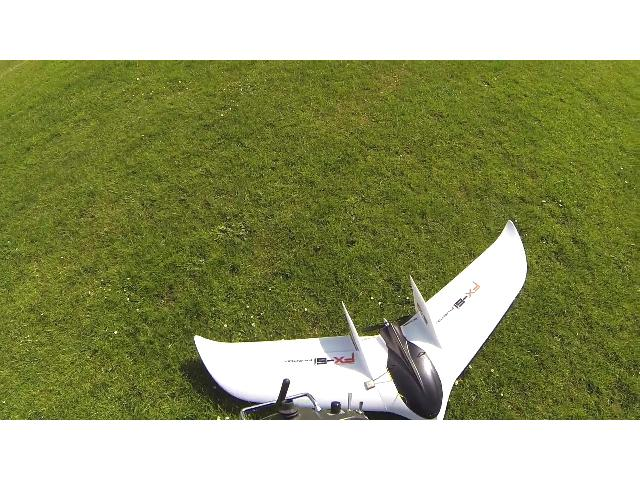Anti-Drone: (189, 217, 533, 419)
